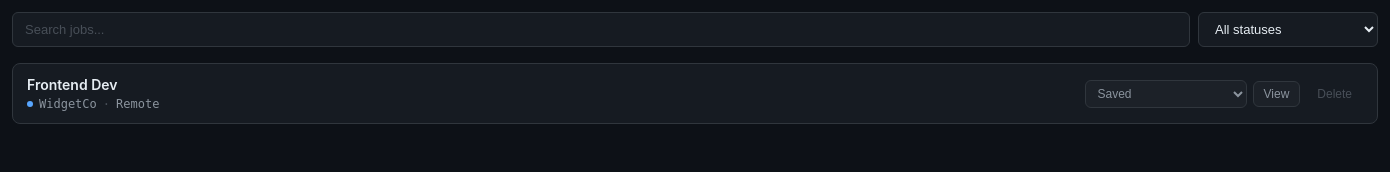
JobsTab › shows "no match" message when search has no results
In the field with placeholder "Search jobs...": (601, 30) [12,12,1190,47], type "zzz-no-match"
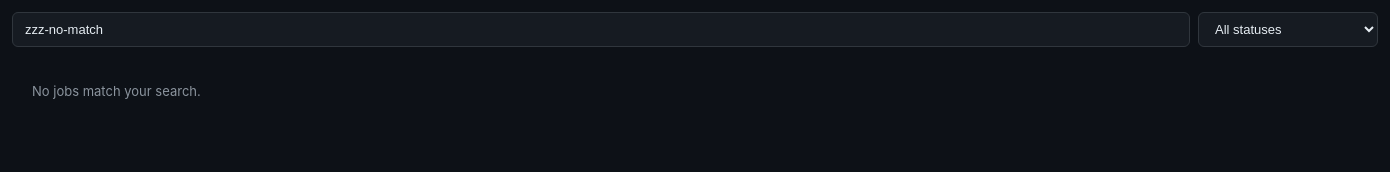
Now the text "No jobs match your search." is shown, box [32,83,201,99]
